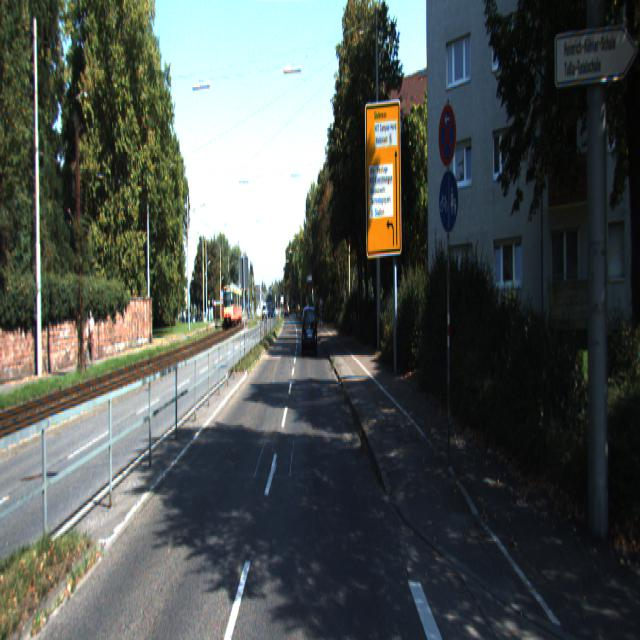Car: (223, 286, 243, 328), (302, 306, 318, 358)
